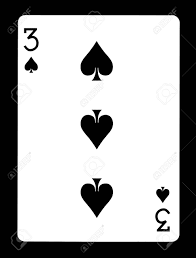three of spades: (19, 13, 178, 242)
